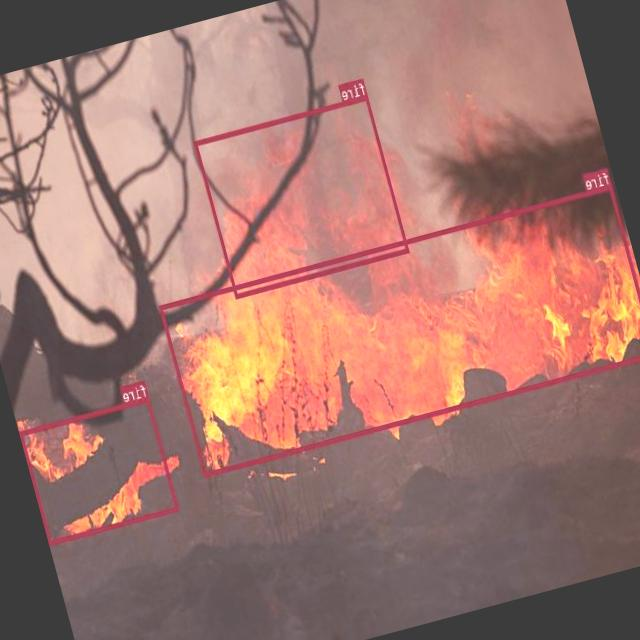fire: (158, 183, 640, 475), (194, 94, 409, 298), (20, 396, 178, 544)
